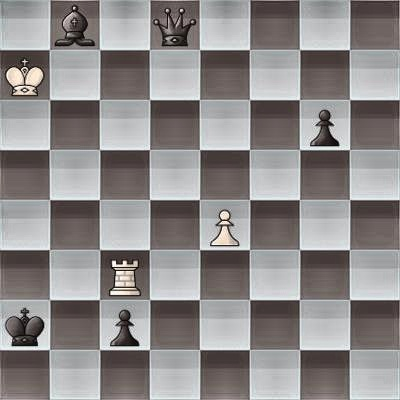black-bishop: (50, 0, 100, 50)
black-king: (0, 300, 50, 350)
black-pawn: (300, 100, 350, 150), (100, 300, 150, 350)
black-queen: (150, 0, 200, 50)
white-king: (0, 50, 50, 100)
white-pawn: (200, 200, 250, 250)
white-rook: (100, 250, 150, 300)
